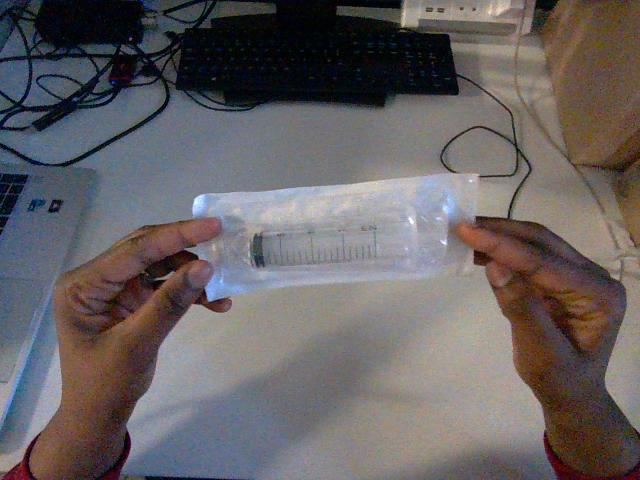syringe: (193, 174, 477, 300)
